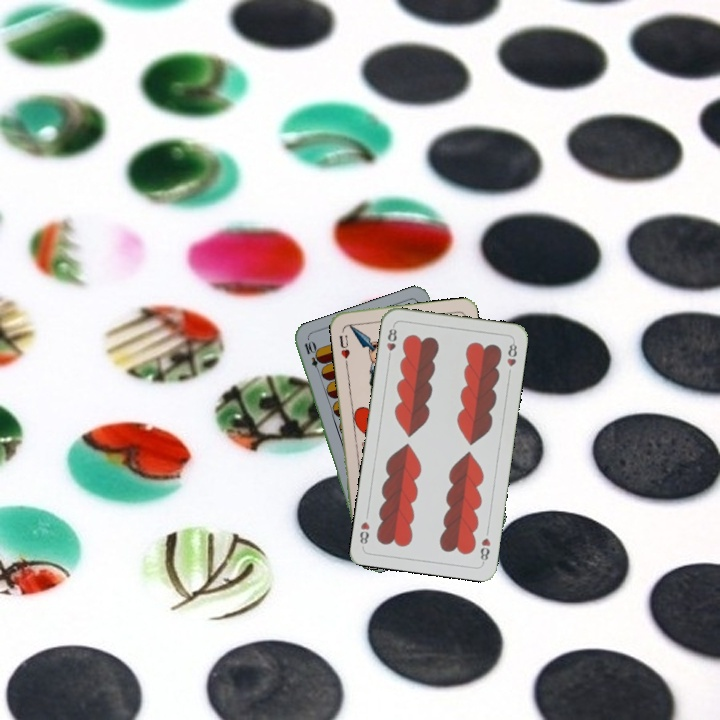E10: (300, 337, 324, 377)
H8: (383, 322, 399, 362), (476, 534, 493, 565)
HU: (335, 331, 352, 366)
